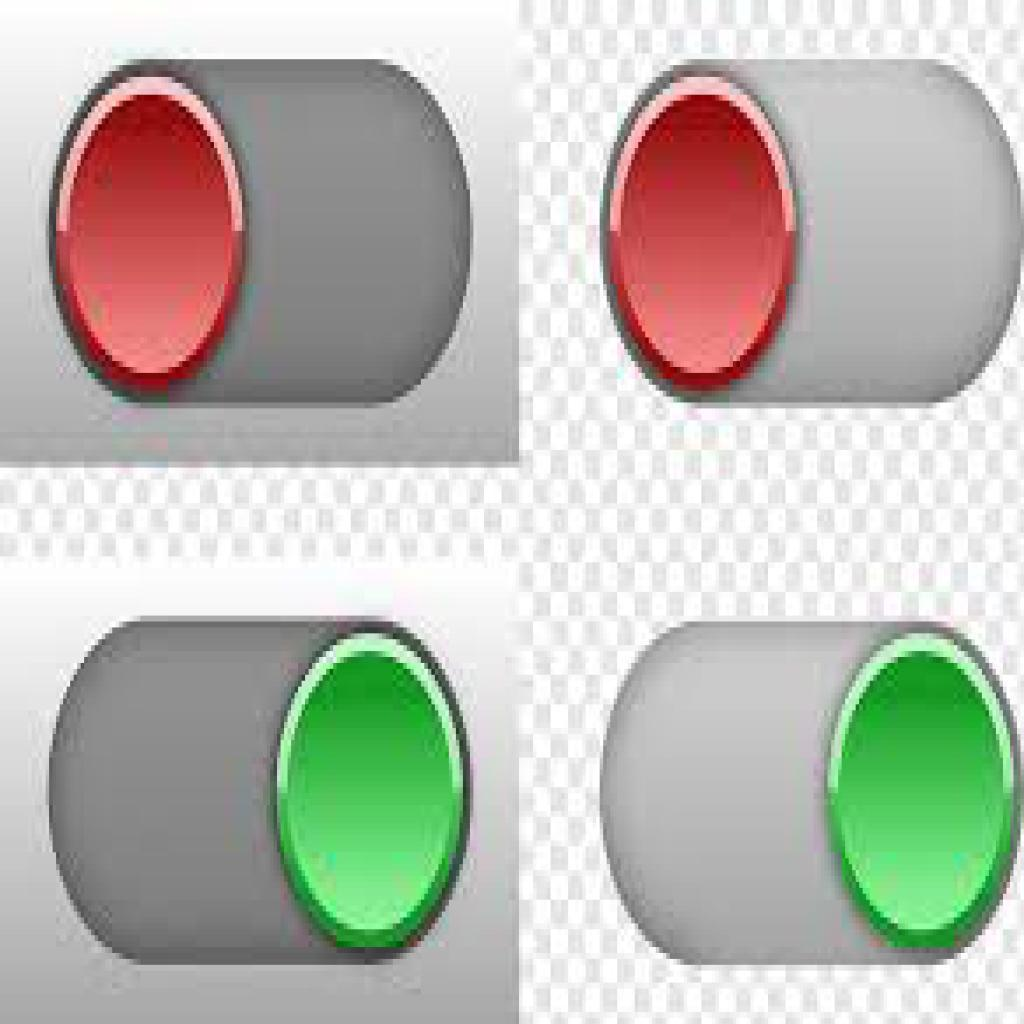switch: (45, 615, 475, 967), (597, 57, 1017, 409), (51, 58, 472, 409), (601, 624, 1024, 967)
